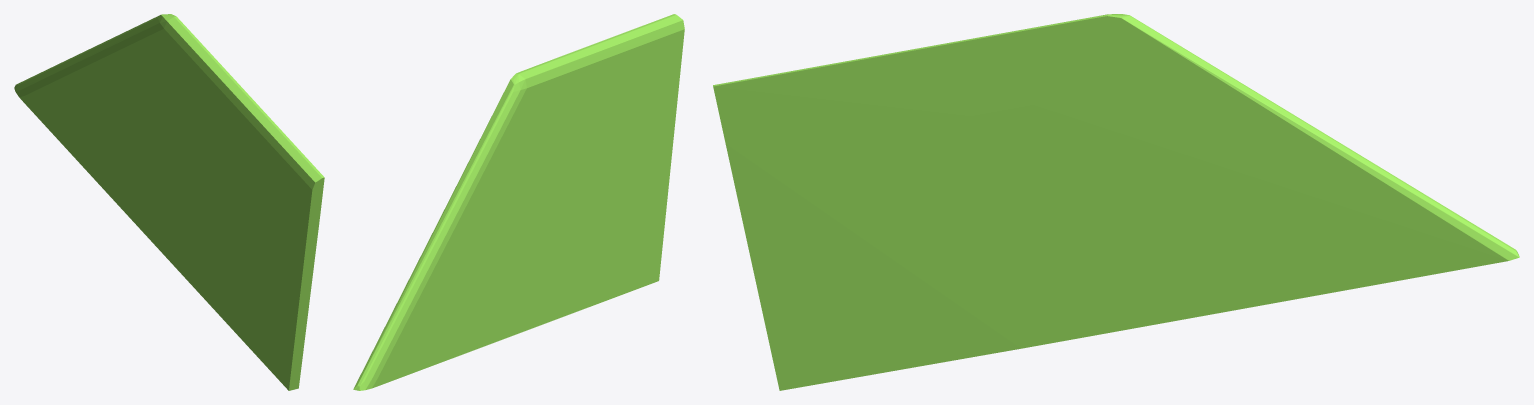
Rendered from converted_Downdraft_Assy_collision_18_a7f566ff.obj.
The picture shows the model from 3 angles, left to right: view 1: azimuth 30°, elevation 25°; view 2: azimuth 150°, elevation 25°; view 3: azimuth 270°, elevation 25°; orthographic projection. The views are drawn at different scales.
Bounding box in the file's own units: 0.0204 × 0.4552 × 0.8865.
